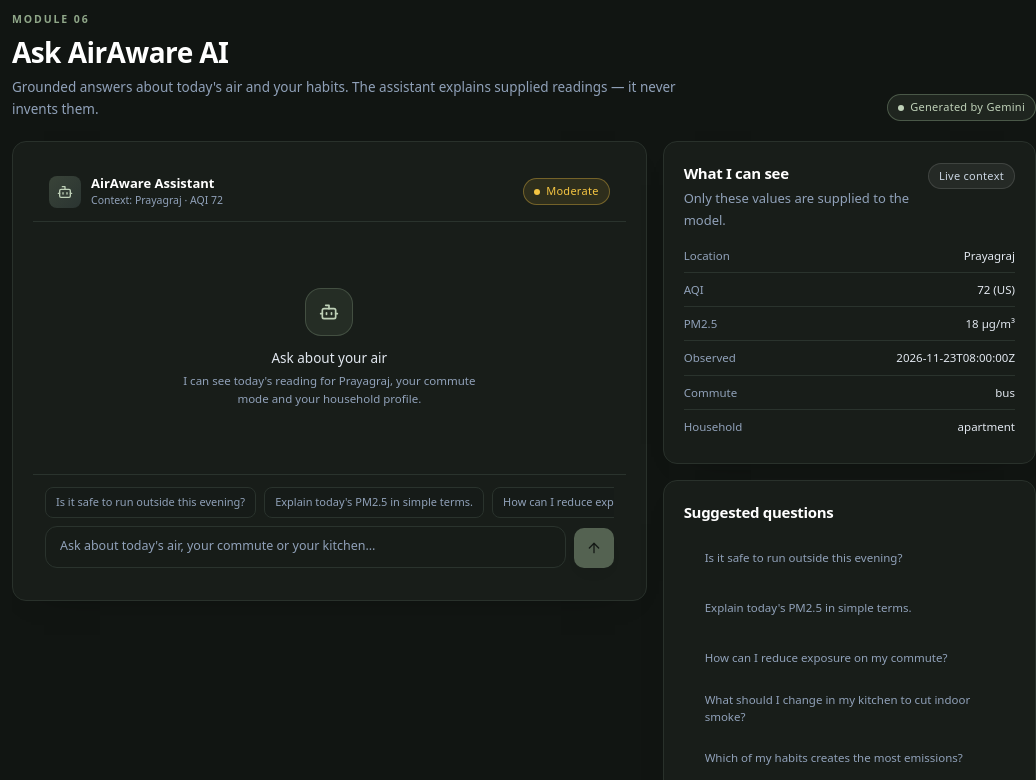
Test case: Assistant interactions › sends a suggested prompt and retries a failed reply
Check: the text "Ask about your air" is shown, box [272,348,387,366]
What coordinates should you click on to do the following:
click the button "Is it safe to run outside this evening?" below "I can see today's reading for"
I would click on:
 (151, 503)
Its box is [45,488,256,518].
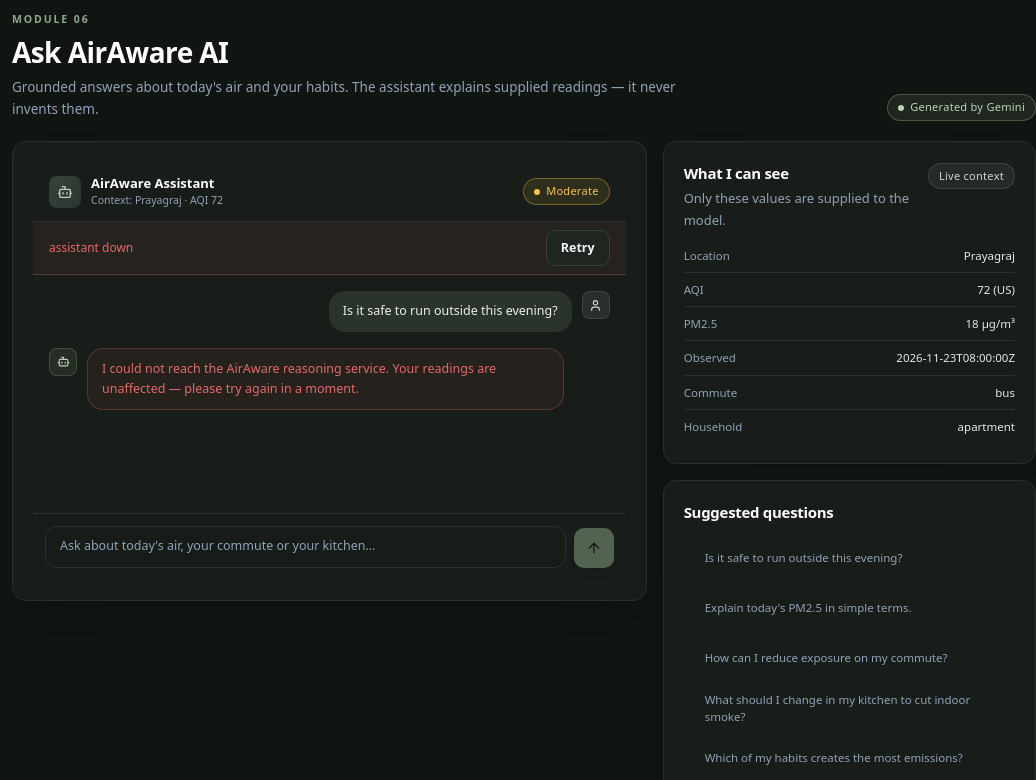
Check: the message shows "assistant down", box [49,239,133,256]
Check: the text "I could not reach the AirAware reasoning service" is shown, box [102,360,499,397]
What coordinates should you click on to do the following:
click the button "Retry"
I would click on:
 (578, 248)
Its box is [546,230,610,266].
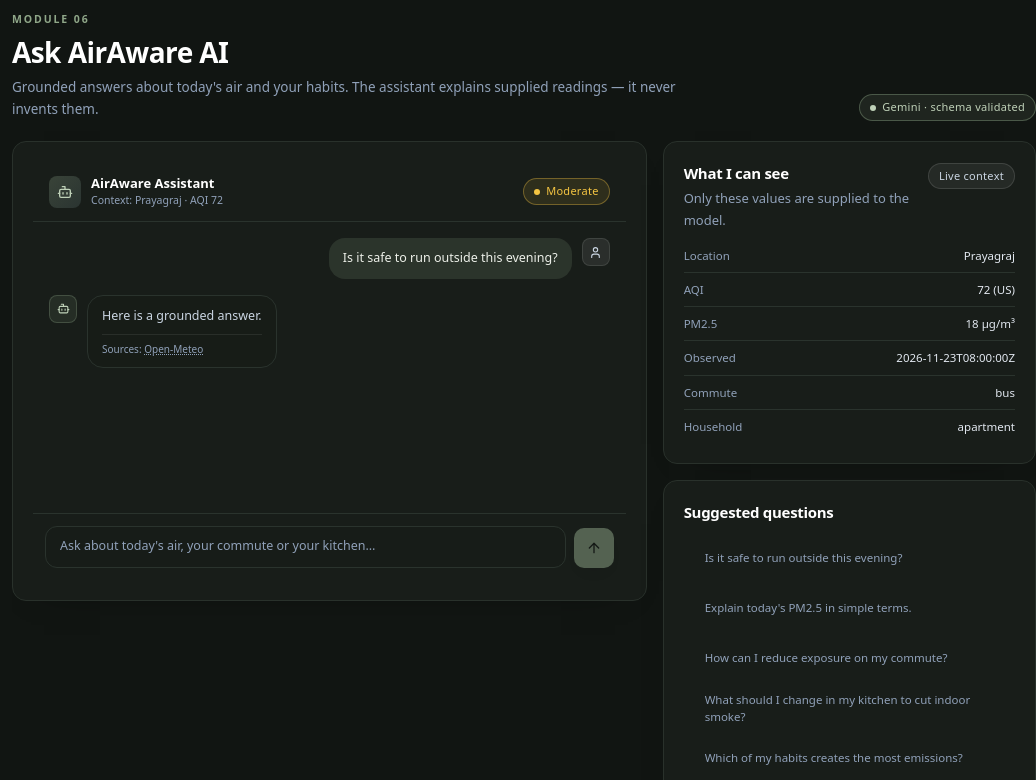
Check: the text "Here is a grounded answer." is shown, box [102,306,262,326]
Check: the message "assistant down Retry" is gone
